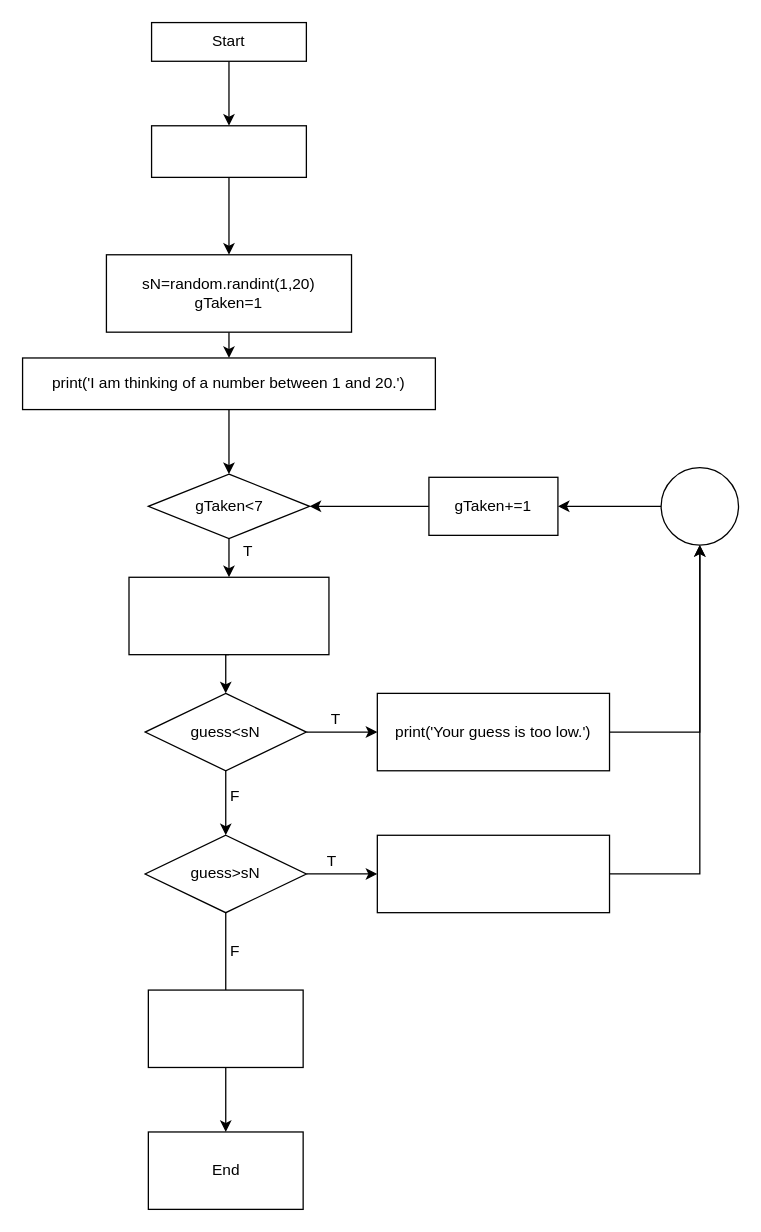
Image size: 761x1232. Some labels were removed from this diagram. Each missing label, with the centre of its shape:
import random: point 228,150
print('Correct guess!'): point 225,1028
print('Take a guess.') guess=int(input()): point 228,615
print('Your guess is too high.'): point 493,873
